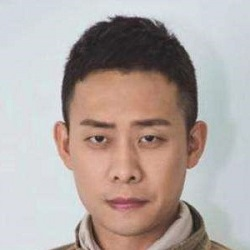unmask: (68, 62, 190, 236)
